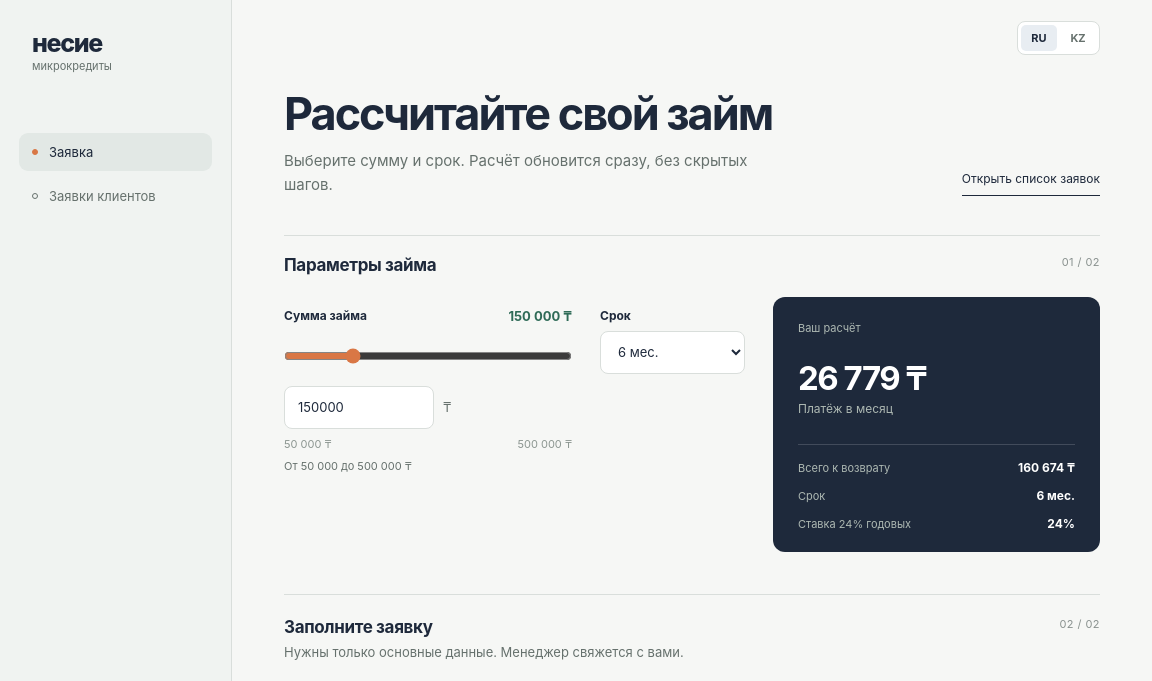
Test: microcredit app › switches the main copy to Kazakh
Click the button with aria-label "Переключить на казахский" at (1078, 38), box [1060,25,1096,51]
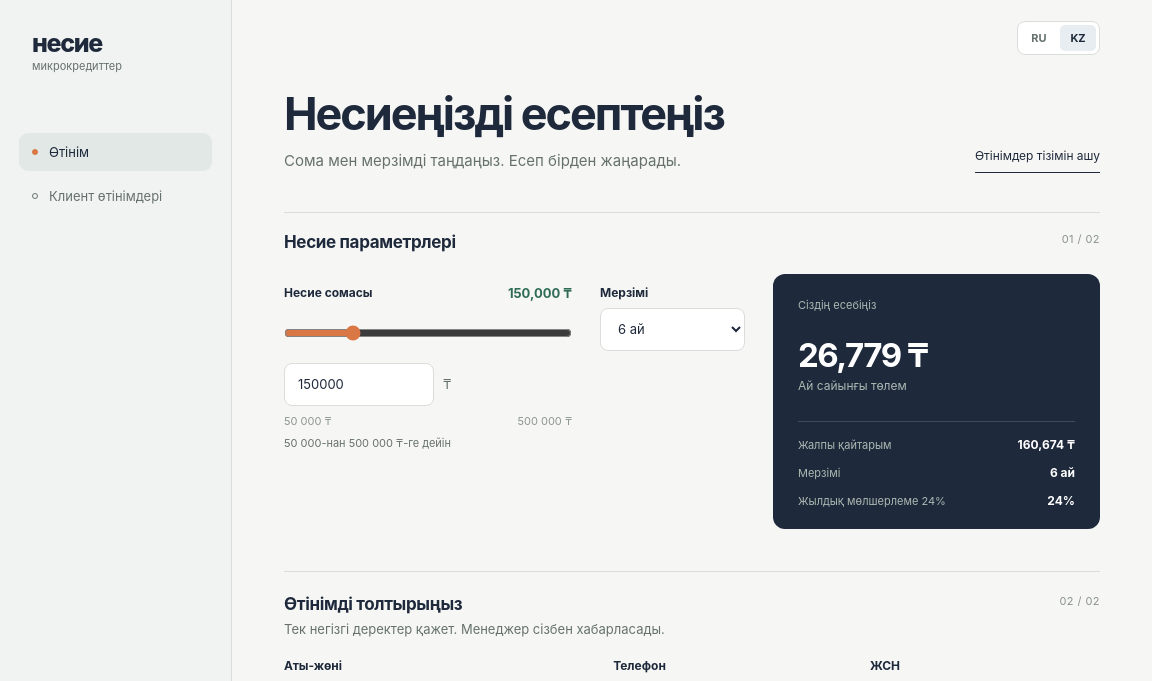
Expected: the heading "Несиеңізді есептеңіз" is shown, [284,91,724,137]
